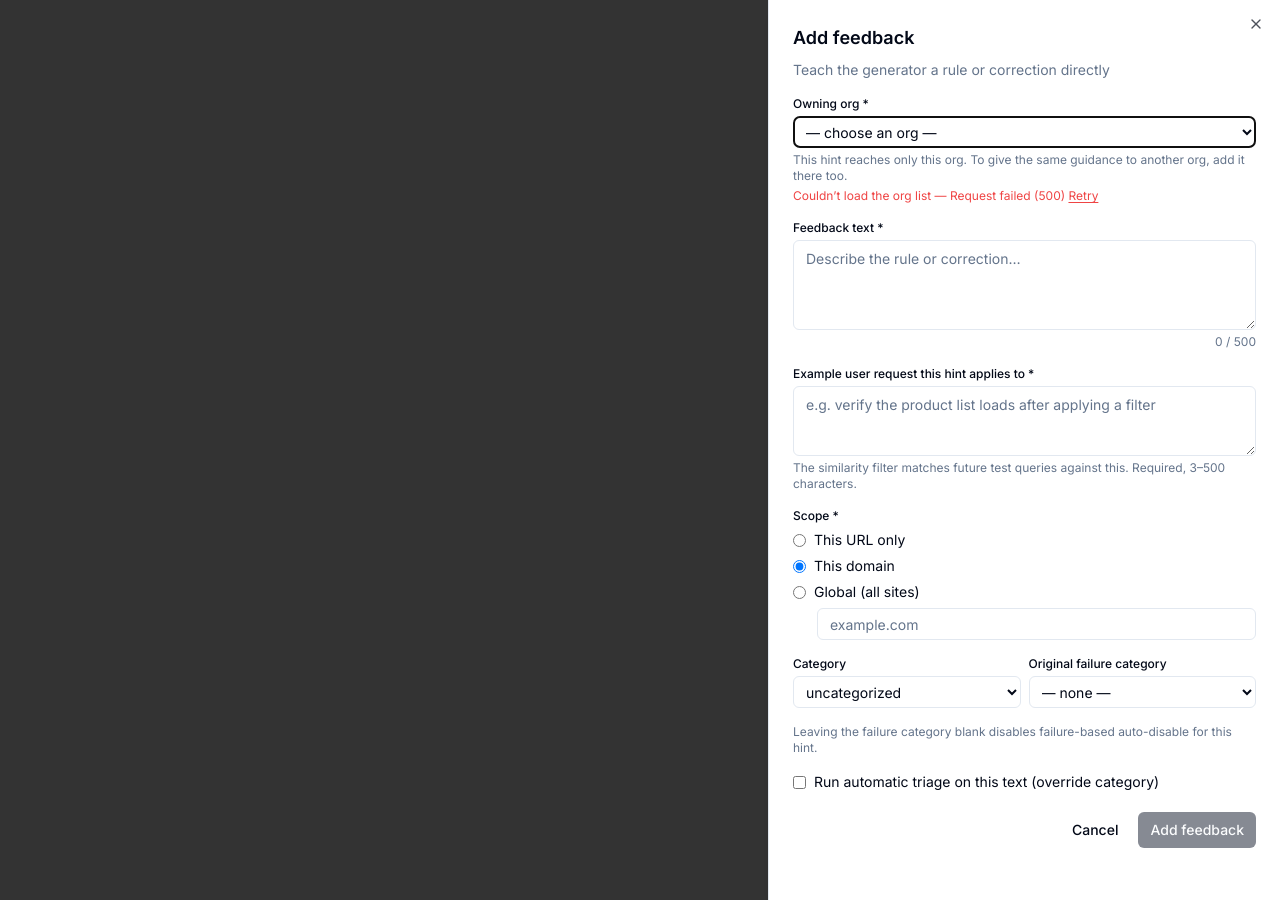
when the org directory fails to load › offers a retry that refills the picker and clears the error
Expected: the text "Couldn’t load the org list — Request failed (500) Retry" is shown, [793,188,1098,204]
Click the button "Retry".
click(1083, 196)  # box [1068,188,1098,204]
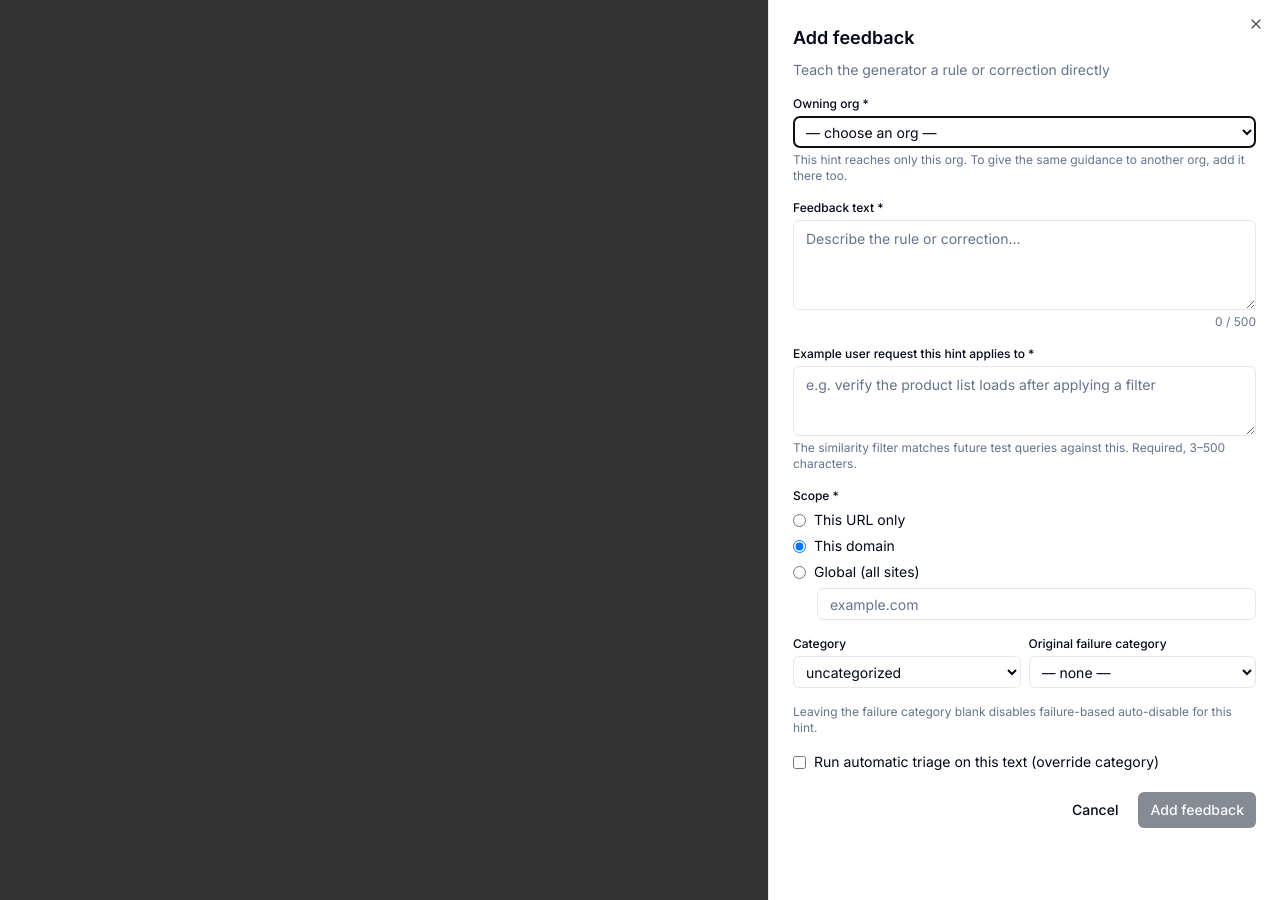
Expected: the text "Couldn.t load the org list" is gone
